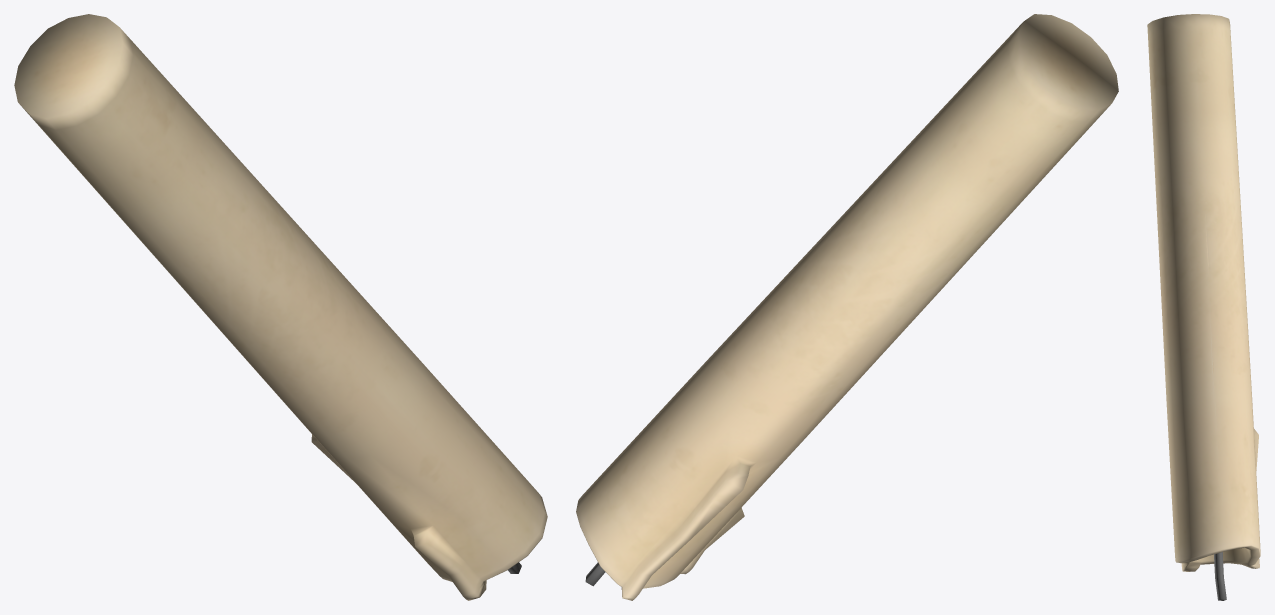
File: candle.obj
3 views of the same model, side by side, from view 1: azimuth 30°, elevation 25°; view 2: azimuth 150°, elevation 25°; view 3: azimuth 270°, elevation 25° (orthographic). The views are drawn at different scales.
Visible parts, largest first — view 1: dynamic; view 2: dynamic; view 3: dynamic.
Part boxes in pixels (left/top/right/bottom): dynamic: left=14, top=14, right=547, bottom=600; dynamic: left=576, top=14, right=1118, bottom=600; dynamic: left=1147, top=14, right=1260, bottom=600.
Bounding box in the file's own units: 24.76 × 30.21 × 6.91.
Materials: 1 (1 with a texture image).
